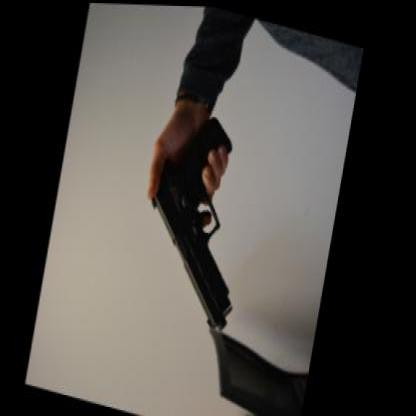pistol: (133, 97, 267, 330)
